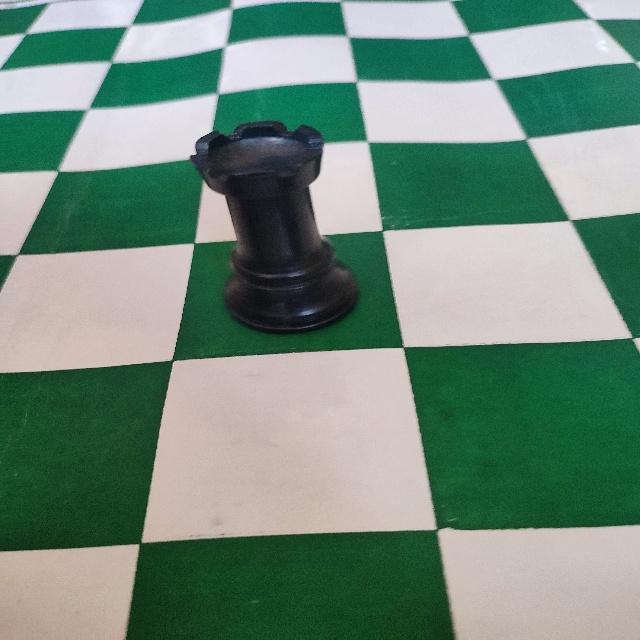Rook: (186, 118, 363, 336)
